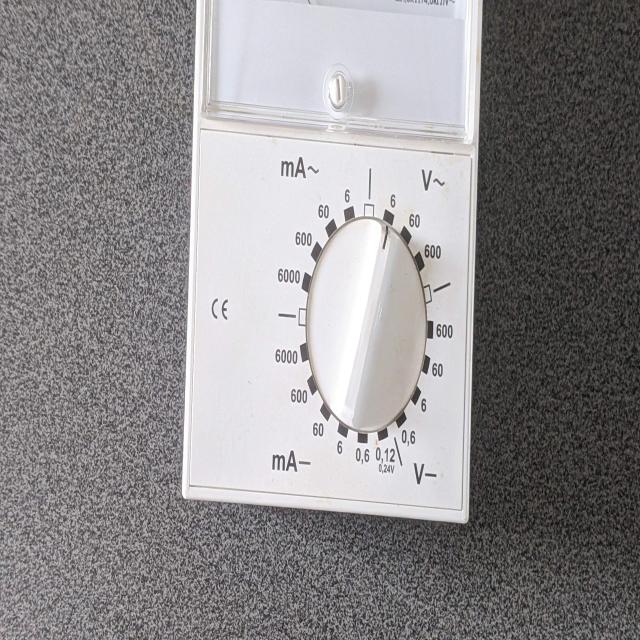Analog Multimeter: (178, 7, 492, 554)
